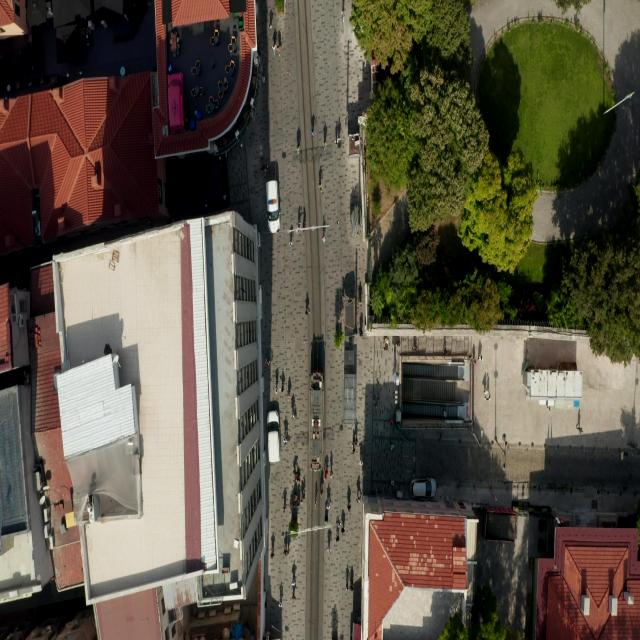Car: (410, 477, 437, 501)
Van: (266, 410, 281, 462), (266, 180, 280, 234)
